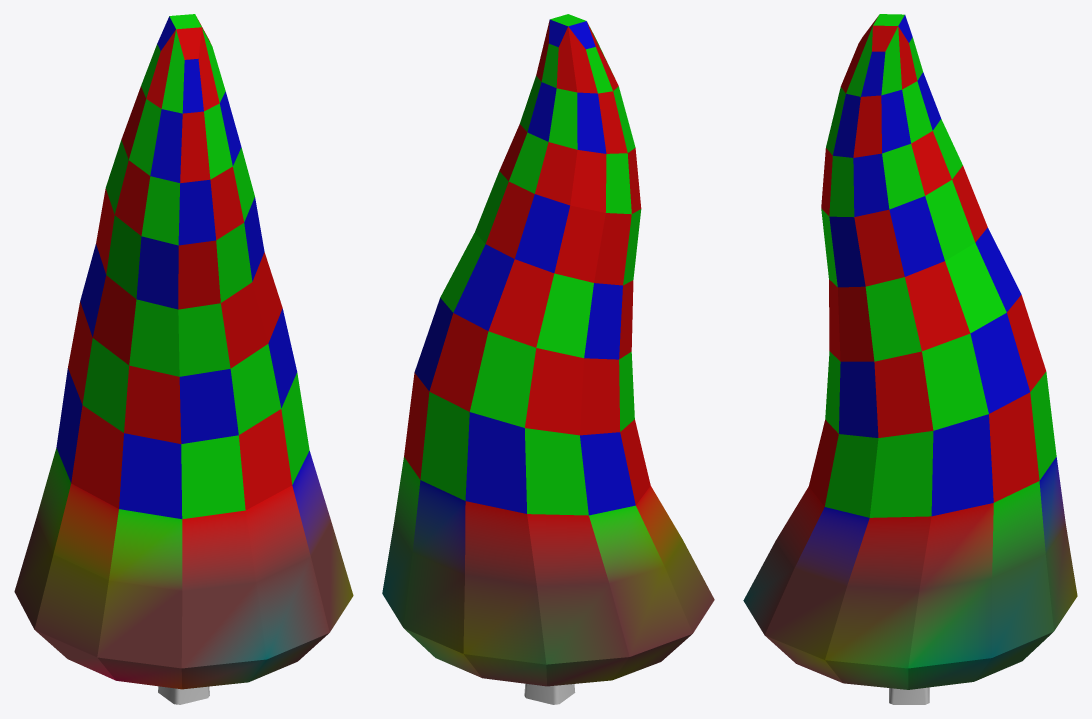
The model's file is Tree_D_02.fbx.
3 views of the same model, side by side, from view 1: azimuth 30°, elevation 25°; view 2: azimuth 150°, elevation 25°; view 3: azimuth 270°, elevation 25° (orthographic).
Visible parts, largest first — view 1: Tree_D_02_Leaves, Tree_D_02_Trunk; view 2: Tree_D_02_Leaves, Tree_D_02_Trunk; view 3: Tree_D_02_Leaves, Tree_D_02_Trunk.
Part boxes in pixels (x1,y1,x2,y2): Tree_D_02_Leaves: (14, 14, 353, 689); Tree_D_02_Trunk: (158, 686, 209, 704); Tree_D_02_Leaves: (382, 14, 714, 686); Tree_D_02_Trunk: (524, 683, 575, 704); Tree_D_02_Leaves: (743, 14, 1077, 689); Tree_D_02_Trunk: (889, 687, 929, 704).
Size of the model in its own units: 1.4 by 3.1 by 1.4.
